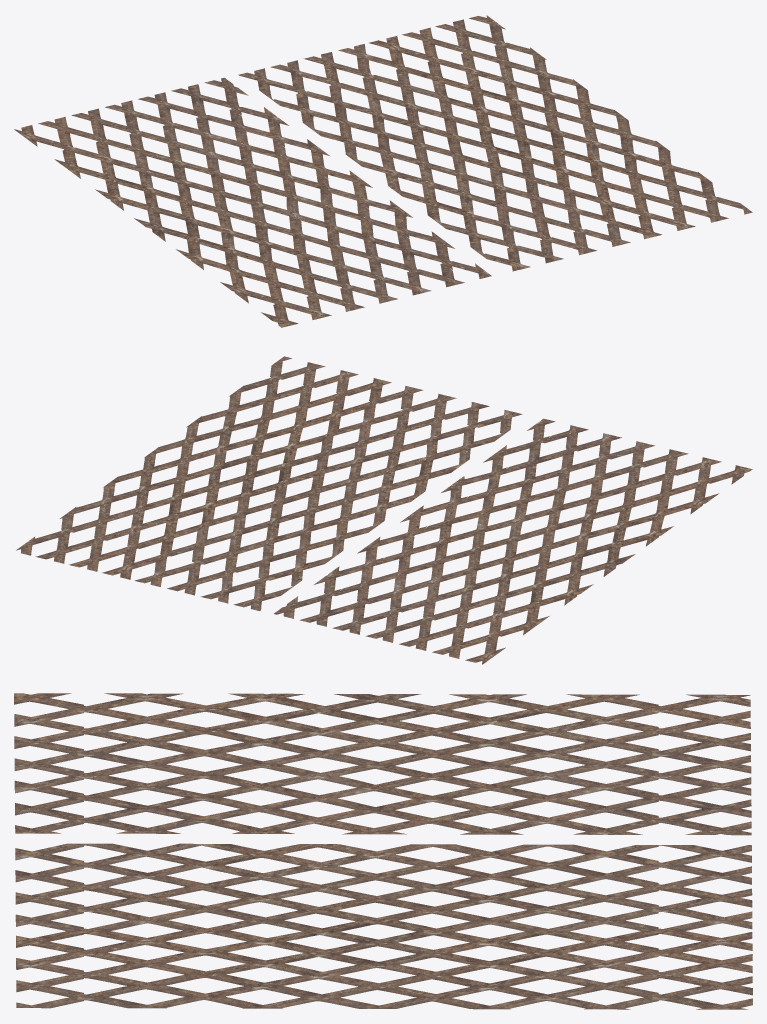
File: SM_NeoLD_10_WireMesh_00.fbx
3 views of the same model, one above another, from view 1: azimuth 30°, elevation 25°; view 2: azimuth 150°, elevation 25°; view 3: azimuth 270°, elevation 25° (orthographic). The views are drawn at different scales.
Parts seen in each view (by area): view 1: SM_NeoLD_10_WireMesh_00; view 2: SM_NeoLD_10_WireMesh_00; view 3: SM_NeoLD_10_WireMesh_00.
Part boxes in pixels (x1,y1,x2,y2): SM_NeoLD_10_WireMesh_00: (14, 15, 752, 327); SM_NeoLD_10_WireMesh_00: (16, 356, 752, 664); SM_NeoLD_10_WireMesh_00: (14, 693, 752, 1009).
Bounding box in the file's own units: 404 × 0.4699 × 399.
